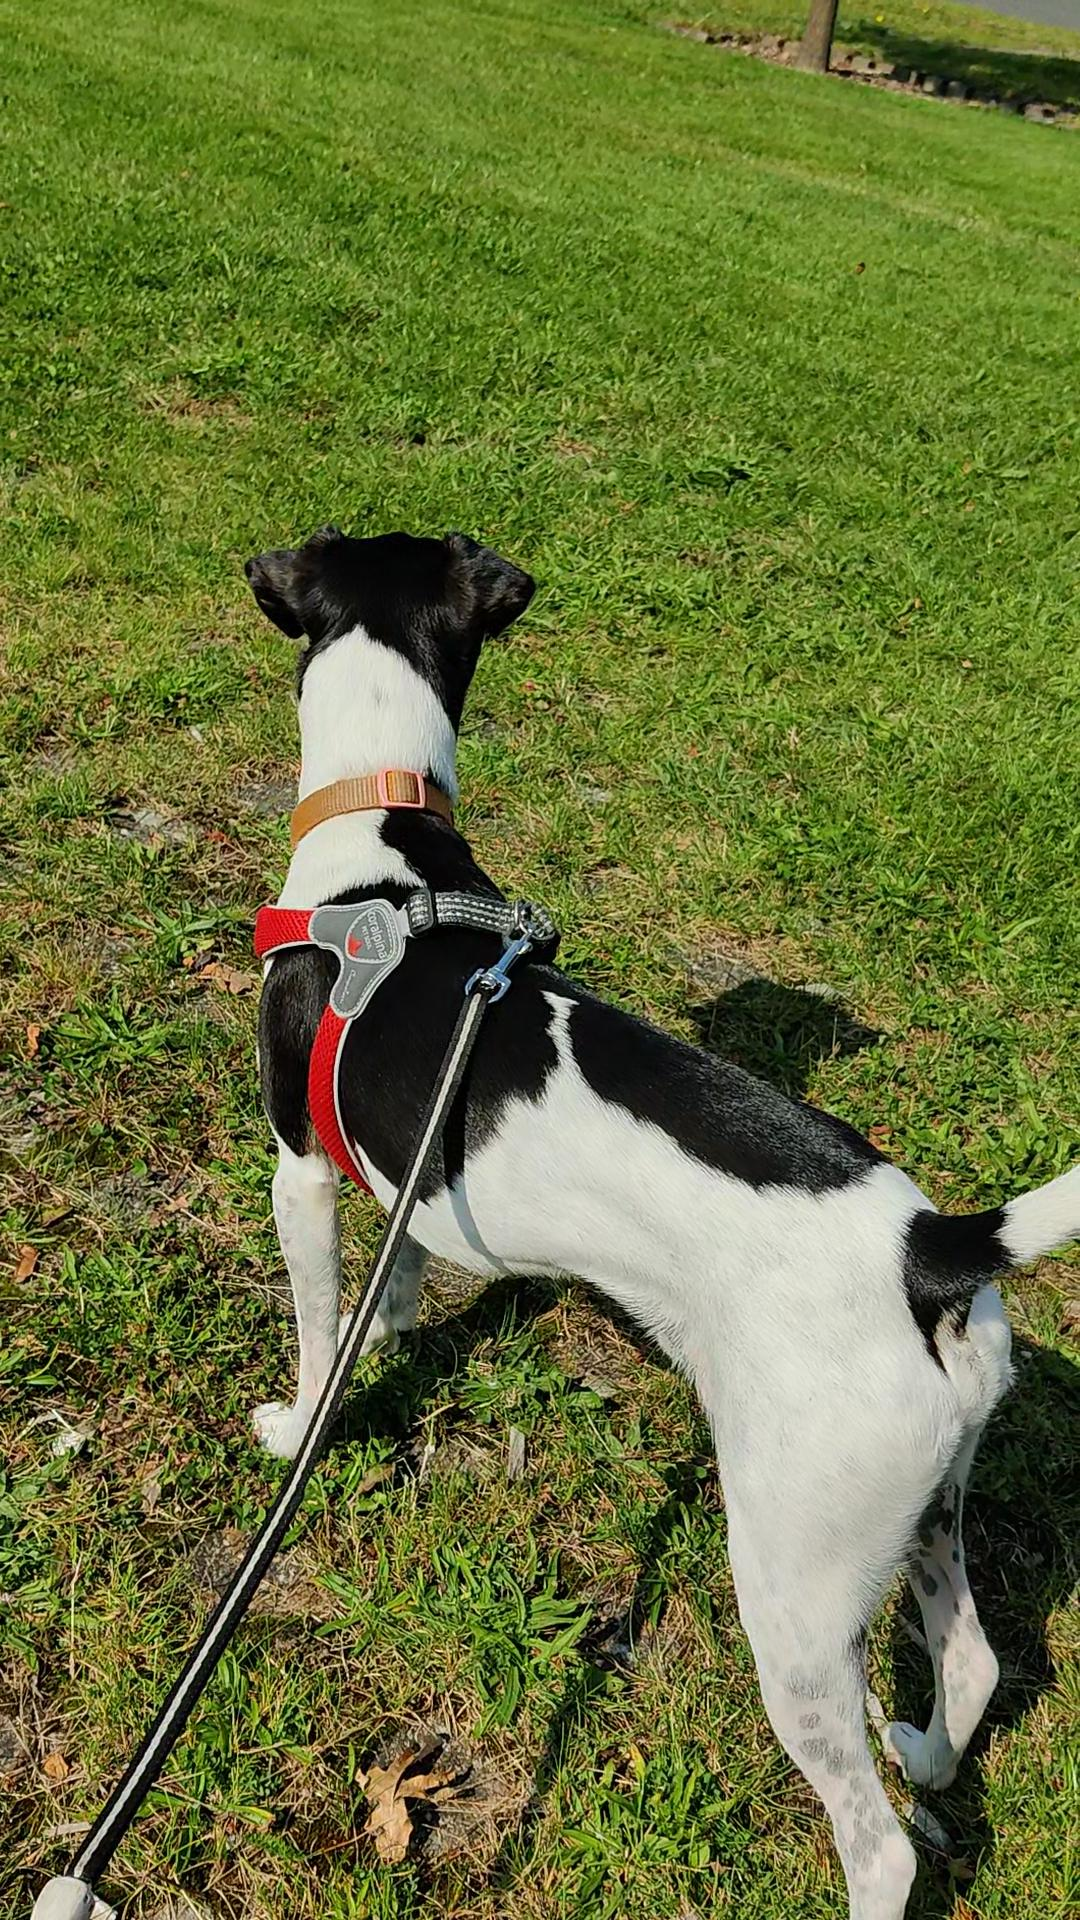Dog: (237, 527, 1079, 1919)
